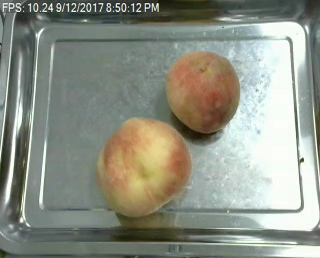Peach: (96, 116, 189, 218), (164, 49, 240, 133)
